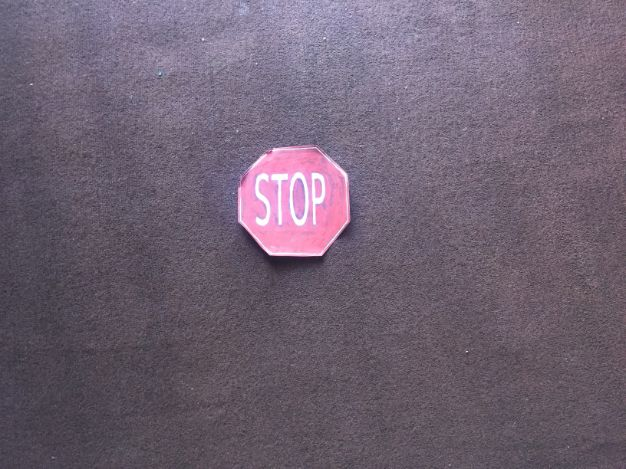stop: (239, 137, 349, 263)
